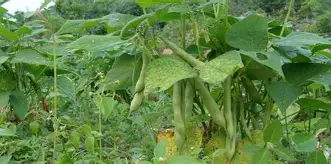crops: (0, 10, 321, 158), (44, 120, 106, 164), (0, 132, 36, 163)
